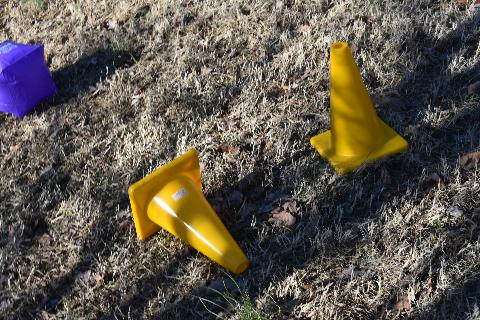cone: (128, 150, 248, 274), (310, 42, 408, 175)
cube: (1, 40, 56, 119)
